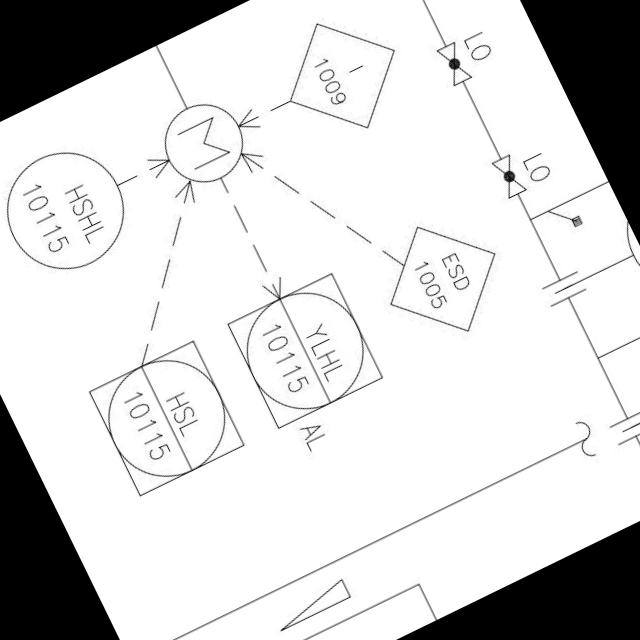BV2: (486, 146, 531, 204), (432, 34, 476, 92)
